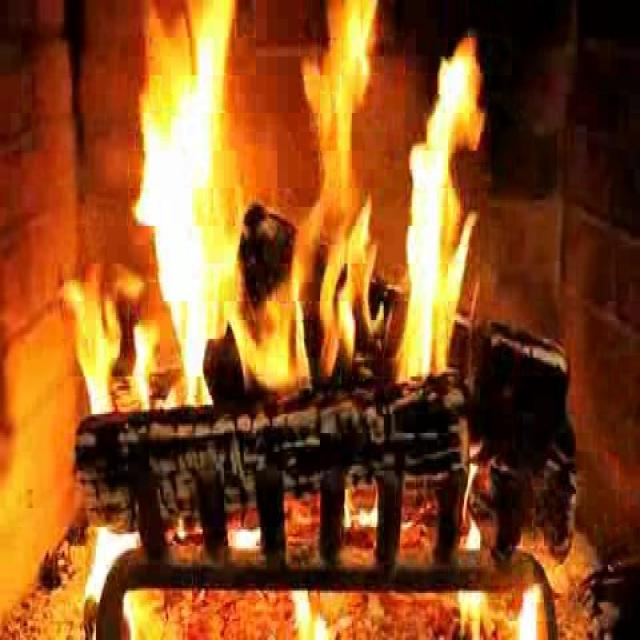fire: (129, 6, 472, 380)
